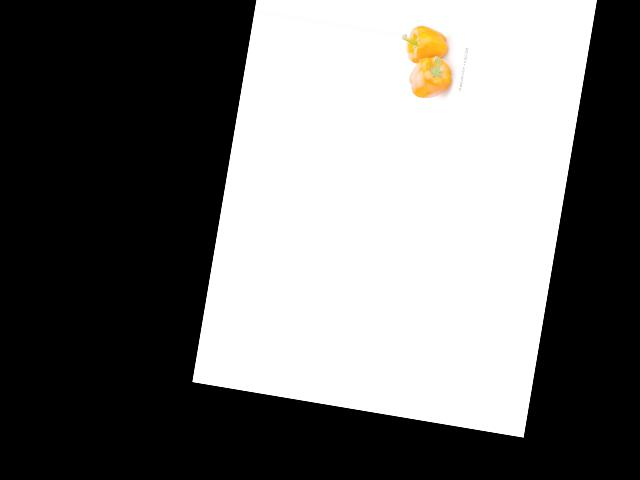bell_pepper: (404, 50, 459, 104)
